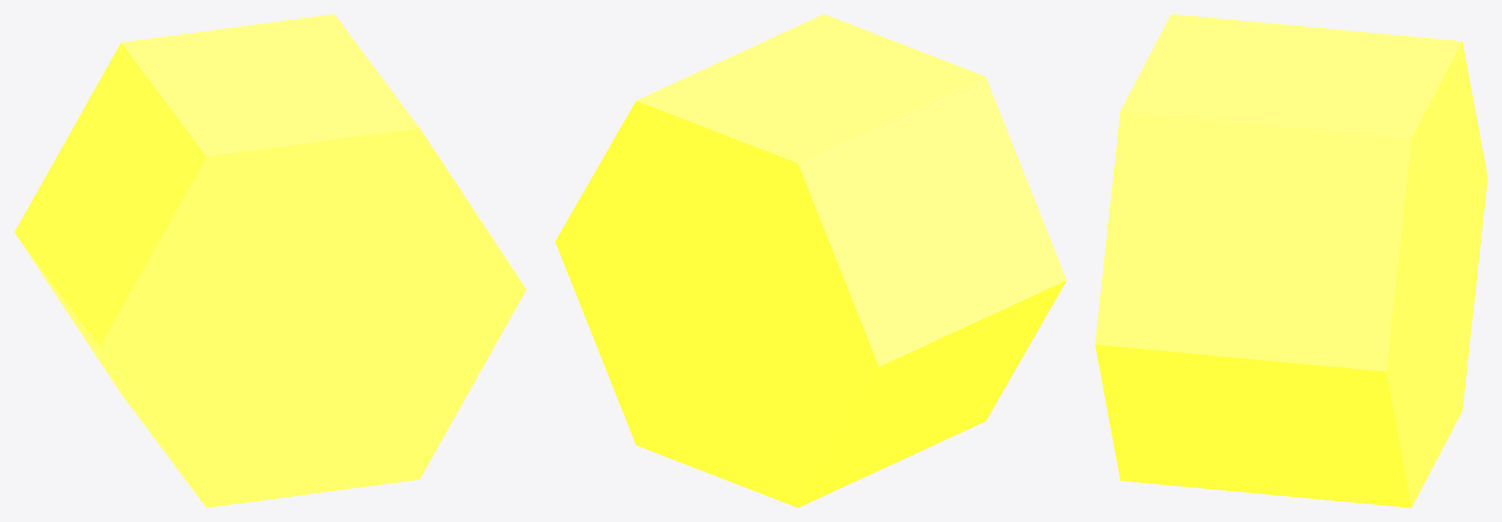
Rendered from fanaleA3.fbx.
3 renders of one model, left to right at view 1: azimuth 30°, elevation 25°; view 2: azimuth 150°, elevation 25°; view 3: azimuth 270°, elevation 25°, orthographic. The views are drawn at different scales.
Visible parts, largest first — view 1: Cylinder_1_4; view 2: Cylinder_1_4; view 3: Cylinder_1_4.
Boxes of the visible parts, left/top/right/bottom form: Cylinder_1_4: left=14, top=14, right=526, bottom=507; Cylinder_1_4: left=555, top=14, right=1066, bottom=507; Cylinder_1_4: left=1095, top=14, right=1487, bottom=507.
Size of the model in its own units: 21.02 by 16.35 by 15.75.
